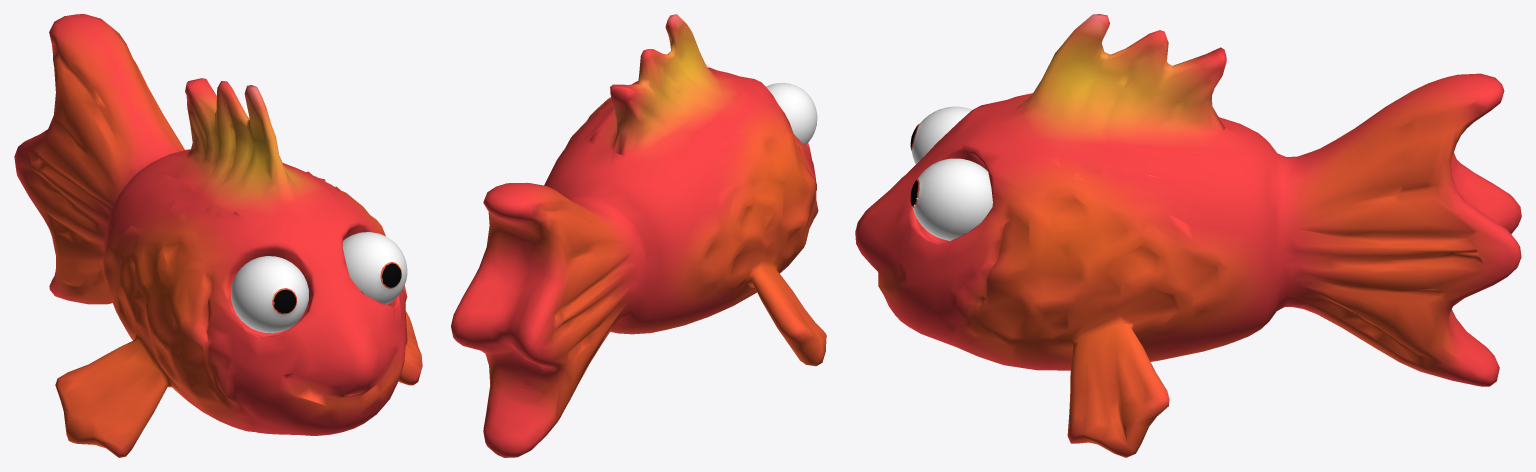
File: nemo.fbx
The picture shows the model from 3 angles, left to right: view 1: azimuth 30°, elevation 25°; view 2: azimuth 150°, elevation 25°; view 3: azimuth 270°, elevation 25°; orthographic projection. The views are drawn at different scales.
Parts seen in each view (by area): view 1: body, Sphere; view 2: body, Sphere; view 3: body, Sphere.
Boxes of the visible parts, bbox=[...] form: body: bbox=[14, 14, 422, 457]; Sphere: bbox=[231, 232, 407, 333]; body: bbox=[451, 14, 826, 457]; Sphere: bbox=[705, 64, 817, 145]; body: bbox=[855, 14, 1521, 457]; Sphere: bbox=[910, 106, 992, 240].
Bounding box in the file's own units: 385 × 358 × 586.
3 materials, 1 textured.
